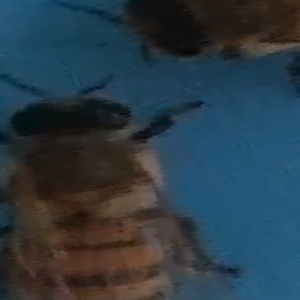bee: (2, 70, 215, 299), (115, 1, 297, 67)
